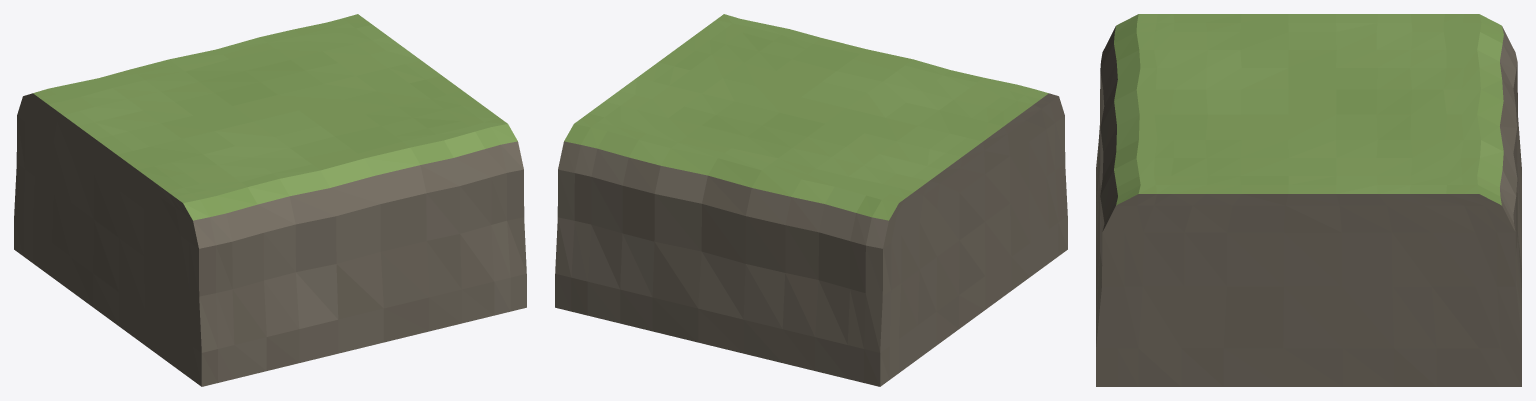
File: grass_narrow.glb
The picture shows the model from 3 angles, left to right: view 1: azimuth 30°, elevation 25°; view 2: azimuth 150°, elevation 25°; view 3: azimuth 270°, elevation 25°; orthographic projection. The views are drawn at different scales.
Visible parts, largest first — view 1: grass_narrow; view 2: grass_narrow; view 3: grass_narrow.
Part boxes in pixels (x1=…): grass_narrow: x1=14, y1=14, x2=526, y2=386; grass_narrow: x1=555, y1=14, x2=1067, y2=386; grass_narrow: x1=1096, y1=14, x2=1521, y2=386.
Size of the model in its own units: 1 by 0.5 by 1.
